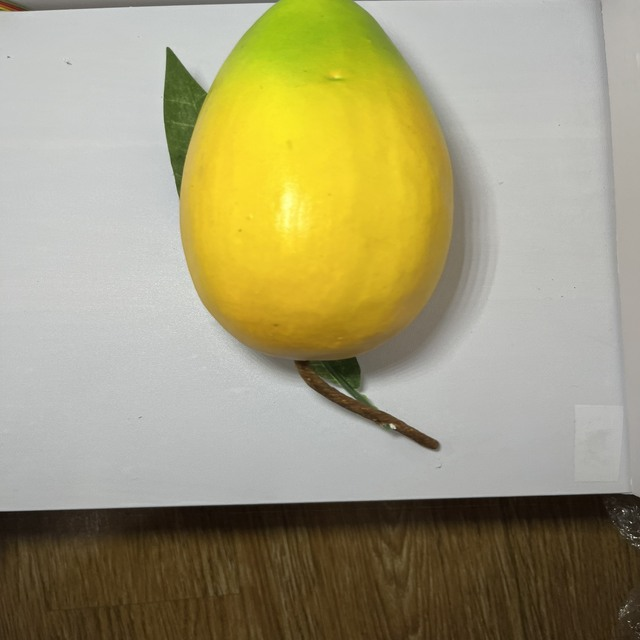Xoai: (174, 0, 460, 362)
